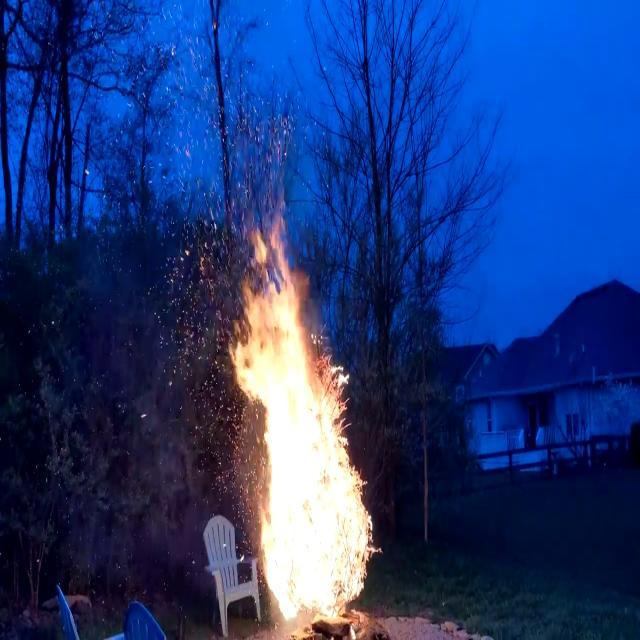Fire: (223, 225, 381, 624)
